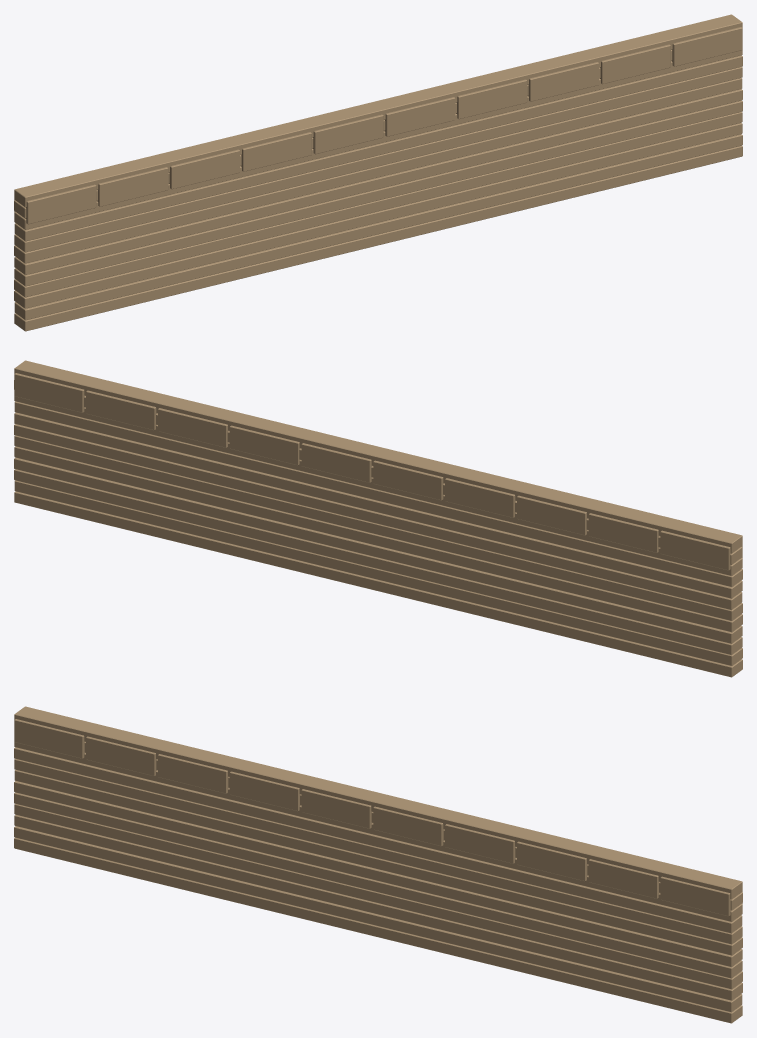
File: covers_barricade_canyon.glb
3 views of the same model, one above another, from view 1: azimuth 30°, elevation 25°; view 2: azimuth 150°, elevation 25°; view 3: azimuth 330°, elevation 25° (orthographic).
Parts seen in each view (by area): view 1: covers_barricade_canyon; view 2: covers_barricade_canyon; view 3: covers_barricade_canyon.
Boxes of the visible parts, <box> form: covers_barricade_canyon: <box>14,14,742,331</box>; covers_barricade_canyon: <box>14,360,742,677</box>; covers_barricade_canyon: <box>14,706,742,1023</box>.
Size of the model in its own units: 15 by 2.68 by 0.5.
